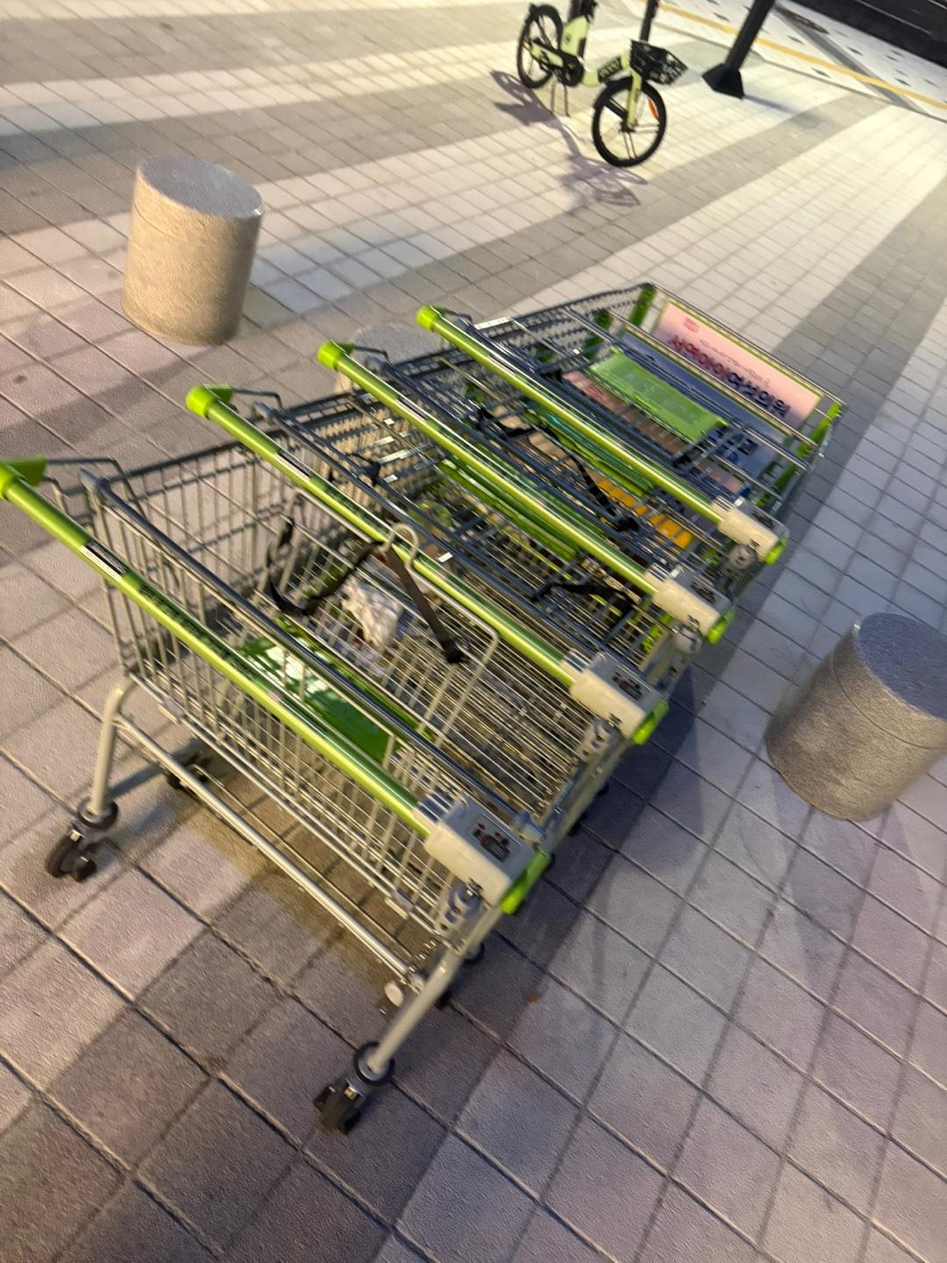combined_cart: (0, 252, 891, 1172)
